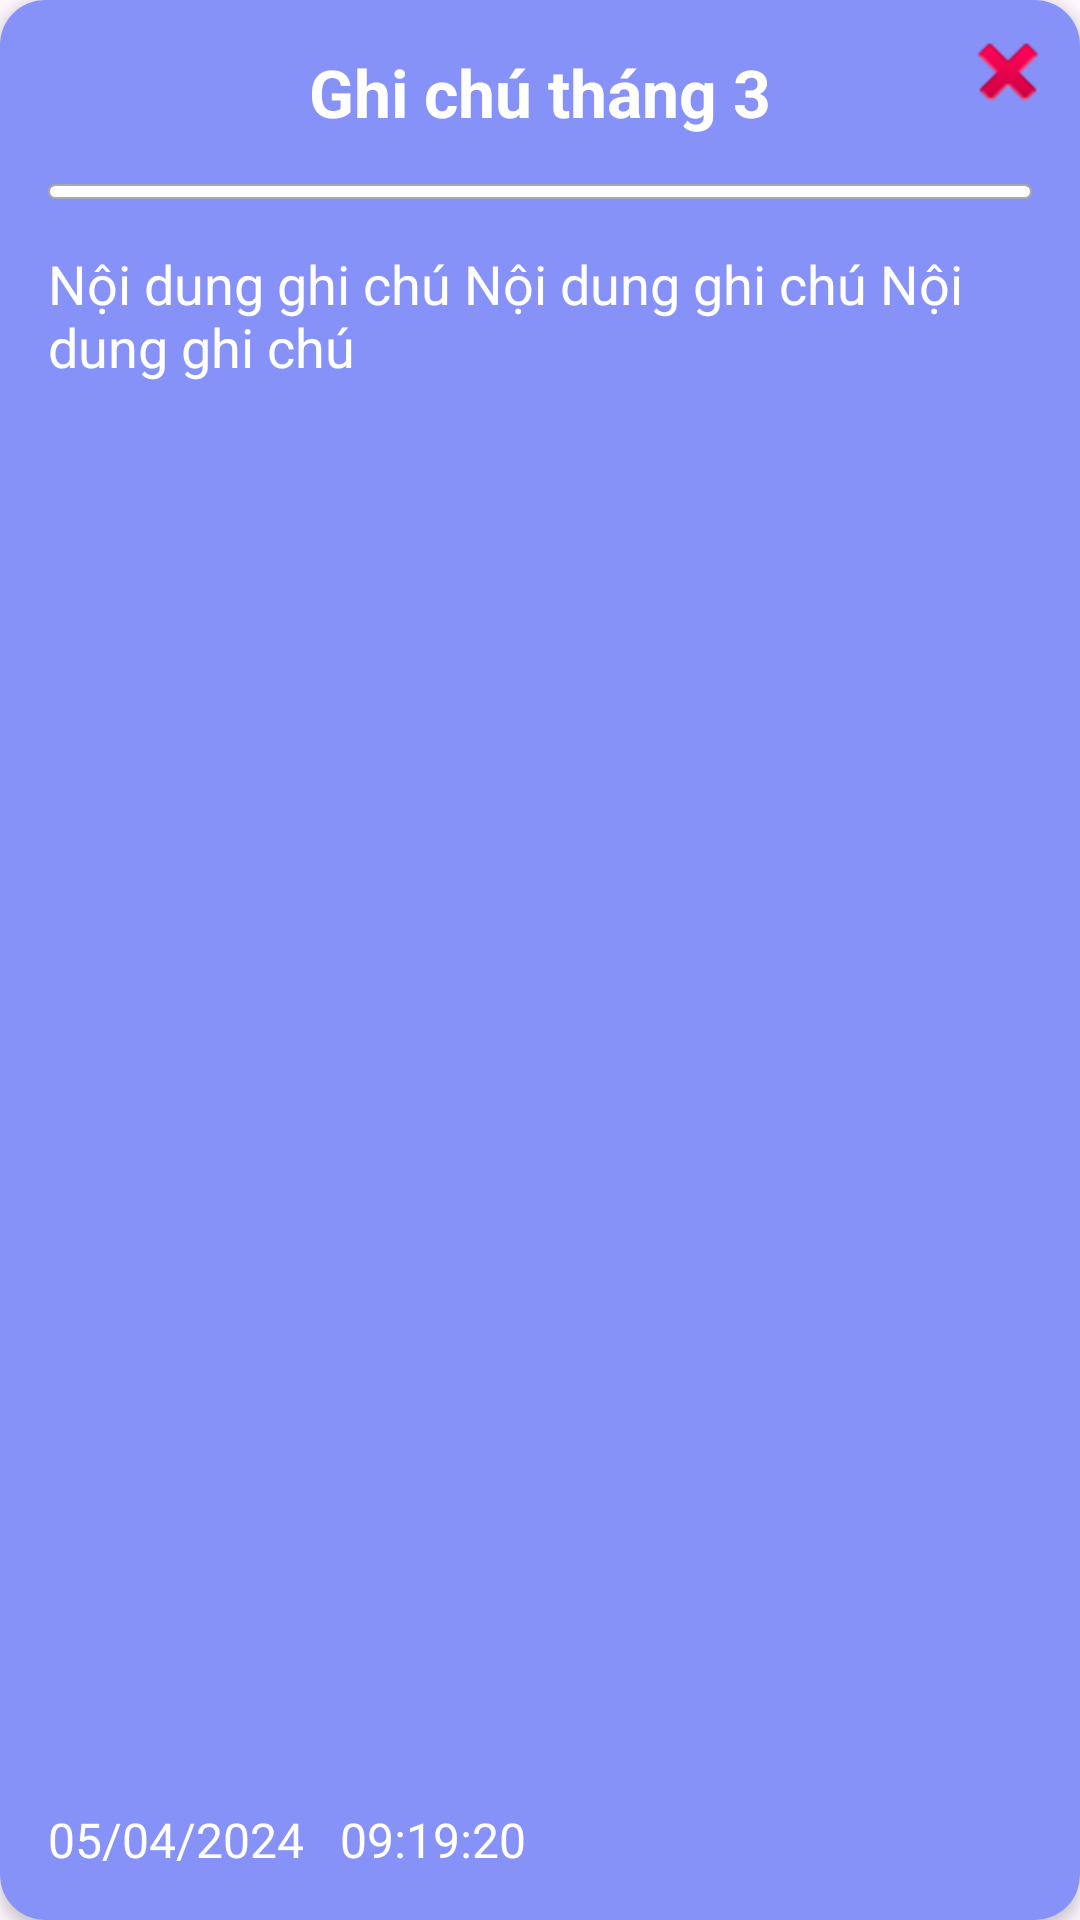

Icons on this 1080px×1920px Android screen, each with its box as {"left": x1, "top": y1, "right": x2, "bottom": y2}:
delete: {"left": 978, "top": 43, "right": 1038, "bottom": 102}
